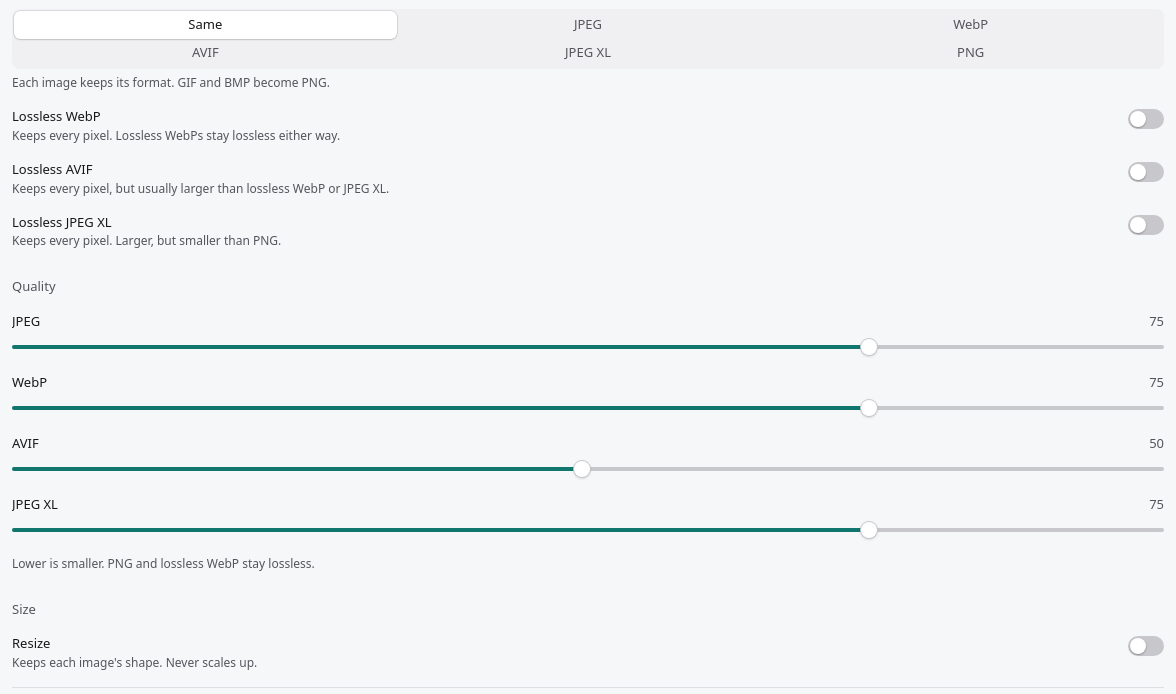
Test case: SettingsPanel › shows what the selected image's size becomes
Click the switch named "Resize" in the row of "Resize".
click(1146, 646)  # box [1128, 636, 1164, 656]
(page scrolled)
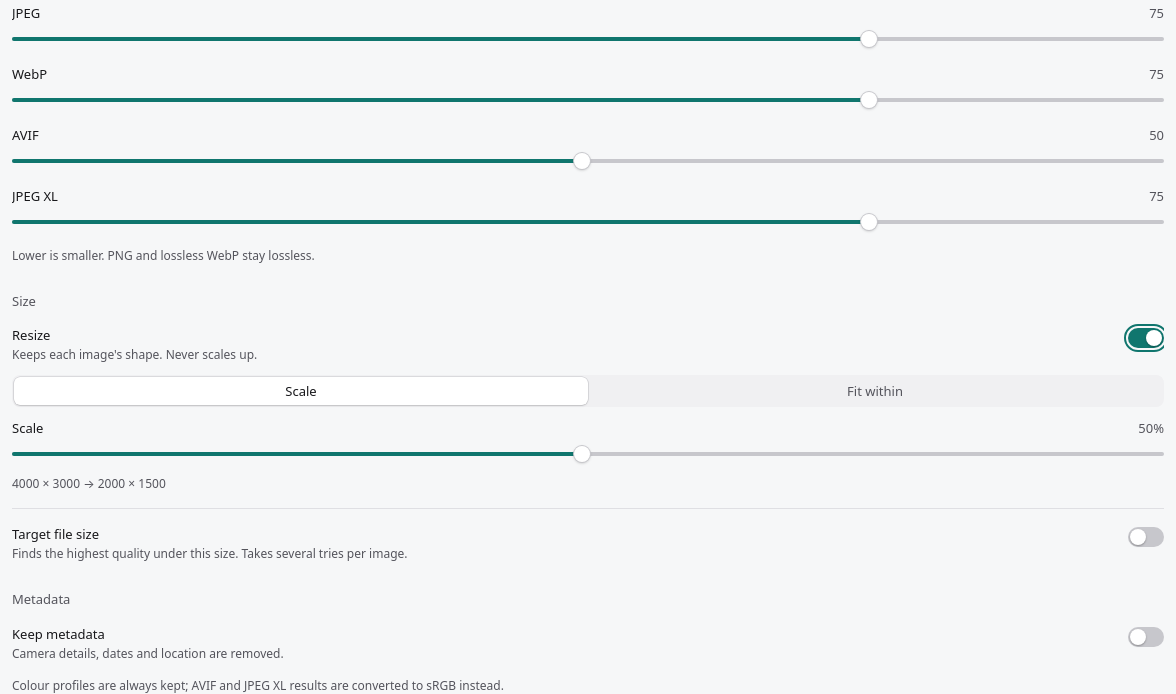
Now the text "4000 × 3000 → 2000 × 1500" is shown, box [12, 475, 166, 492]
Click the radio button labelled "Fit within".
click(875, 391)  # box [588, 377, 1162, 405]
(page scrolled)
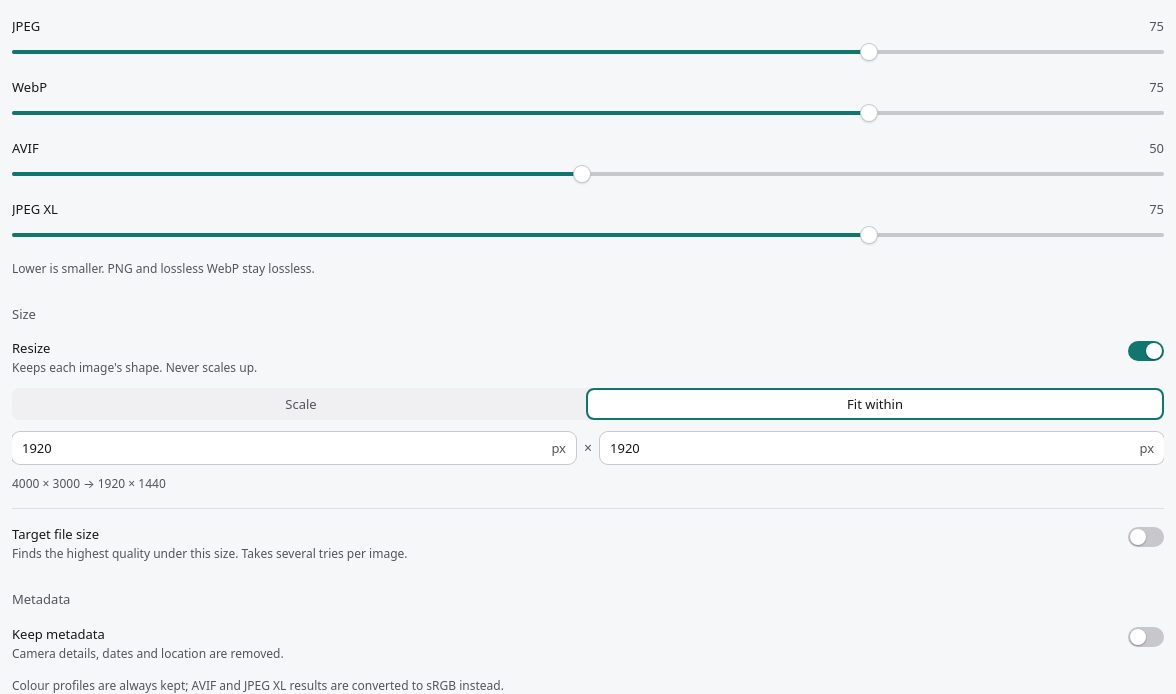
Now the text "4000 × 3000 → 1920 × 1440" is shown, box [12, 475, 166, 492]
